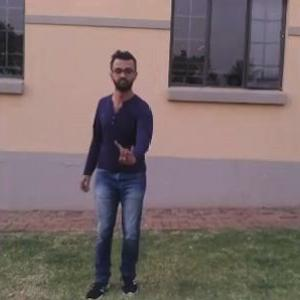takeoff-hand: (112, 133, 141, 169)
